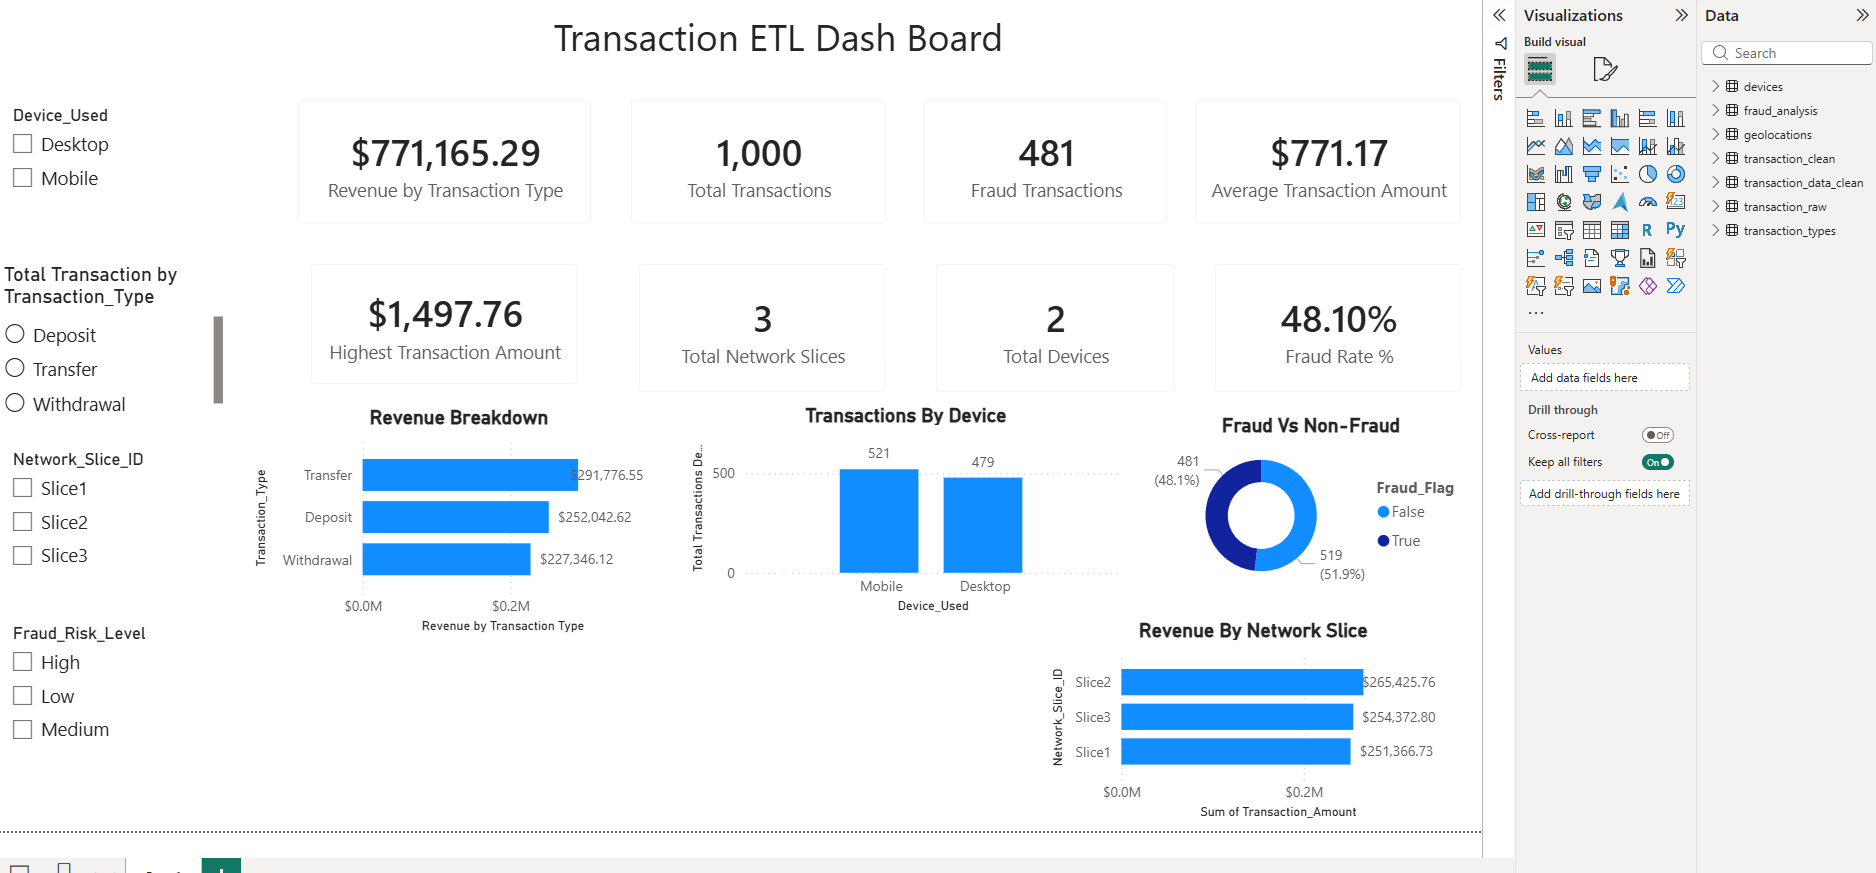

What the dashboard file says about the page in this screenshot:
{"tool":"powerbi","page":{"name":"Page 1","canvas":[1280,720],"ordinal":0},"visuals":[{"type":"cardVisual","fields":{"Data":["devices.Average Transaction Amount"]},"box":[1015.2,72.5,264.8,141.5],"z":0},{"type":"cardVisual","fields":{"Data":["devices.Highest Transaction Amount"]},"box":[252.7,213.9,264.8,138.9],"z":1000},{"type":"cardVisual","fields":{"Data":["devices.Total Revenue"]},"box":[241.5,72.5,287.2,141.5],"z":2000},{"type":"clusteredBarChart","title":"Revenue Breakdown","fields":{"Y":["devices.Revenue by Transaction Type"],"Category":["transaction_raw.Transaction_Type"]},"box":[216.5,352.8,362.3,201],"z":3000},{"type":"cardVisual","fields":{"Data":["transaction_types.Total Transactions"]},"box":[528.7,72.5,254.4,141.5],"z":4000},{"type":"donutChart","title":"Fraud Vs Non-Fraud","fields":{"Category":["transaction_raw.Fraud_Flag"],"Y":["Count(transaction_raw.Transaction_ID)"]},"box":[985.5,360,294.5,158.2],"z":5000},{"type":"cardVisual","fields":{"Data":["devices.Total Network Slices"]},"box":[535.6,213.9,247.5,145.8],"z":6000},{"type":"cardVisual","fields":{"Data":["transaction_types.Total Devices"]},"box":[791.8,213.9,240.6,145.8],"z":7000},{"type":"cardVisual","fields":{"Data":["transaction_types.Fraud Transactions"]},"box":[781.5,72.5,244.1,141.5],"z":8000},{"type":"cardVisual","fields":{"Data":["devices.Fraud Rate %"]},"box":[1032.5,213.9,247.5,145.8],"z":9000},{"type":"clusteredColumnChart","title":"Transactions By Device","fields":{"Y":["transaction_raw.Total Transactions Device"],"Category":["transaction_raw.Device_Used"]},"box":[593.4,351.1,379.5,185.4],"z":10000},{"type":"listSlicer","fields":{"Values":["transaction_raw.Transaction_Type"]},"box":[0,229.4,199.2,139.7],"z":11000},{"type":"slicer","fields":{"Values":["transaction_raw.Network_Slice_ID"]},"box":[0,386.4,182,150.1],"z":12000},{"type":"clusteredBarChart","title":"Revenue By Network Slice","fields":{"Category":["transaction_raw.Network_Slice_ID"],"Y":["Sum(transaction_raw.Transaction_Amount)"]},"box":[903.9,536.5,358,177.7],"z":13000},{"type":"slicer","fields":{"Values":["devices.device_used"]},"box":[0,89.7,182,90.6],"z":14000},{"type":"textbox","box":[252.7,7.8,849.6,71.6],"z":15000},{"type":"slicer","fields":{"Values":["fraud_analysis.risk_level"]},"box":[0,536.5,182,153.5],"z":16000}]}

Visuals, with their boxes on the page's 1280x720 design canvas (x1, y1, x2, y2). These are canvas units, not pixel positions in the 1876x873 screenshot, which may show the page scaled, cropped or inside an application window:
cardVisual - devices.Average Transaction Amount: l=1015, t=72, r=1280, b=214
cardVisual - devices.Highest Transaction Amount: l=253, t=214, r=518, b=353
cardVisual - devices.Total Revenue: l=242, t=72, r=529, b=214
"Revenue Breakdown" clusteredBarChart: l=216, t=353, r=579, b=554
cardVisual - transaction_types.Total Transactions: l=529, t=72, r=783, b=214
"Fraud Vs Non-Fraud" donutChart: l=986, t=360, r=1280, b=518
cardVisual - devices.Total Network Slices: l=536, t=214, r=783, b=360
cardVisual - transaction_types.Total Devices: l=792, t=214, r=1032, b=360
cardVisual - transaction_types.Fraud Transactions: l=782, t=72, r=1026, b=214
cardVisual - devices.Fraud Rate %: l=1032, t=214, r=1280, b=360
"Transactions By Device" clusteredColumnChart: l=593, t=351, r=973, b=536
listSlicer - transaction_raw.Transaction_Type: l=0, t=229, r=199, b=369
slicer - transaction_raw.Network_Slice_ID: l=0, t=386, r=182, b=536
"Revenue By Network Slice" clusteredBarChart: l=904, t=536, r=1262, b=714
slicer - devices.device_used: l=0, t=90, r=182, b=180
textbox: l=253, t=8, r=1102, b=79
slicer - fraud_analysis.risk_level: l=0, t=536, r=182, b=690
